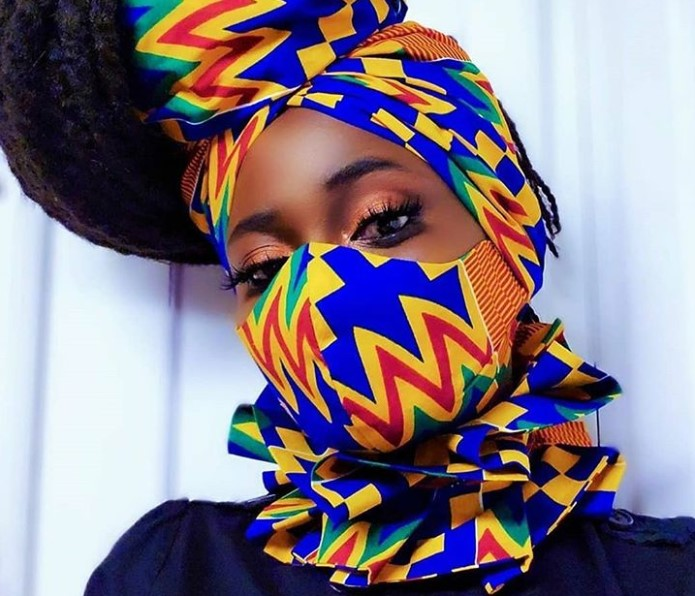face_with_mask: (190, 70, 561, 462)
